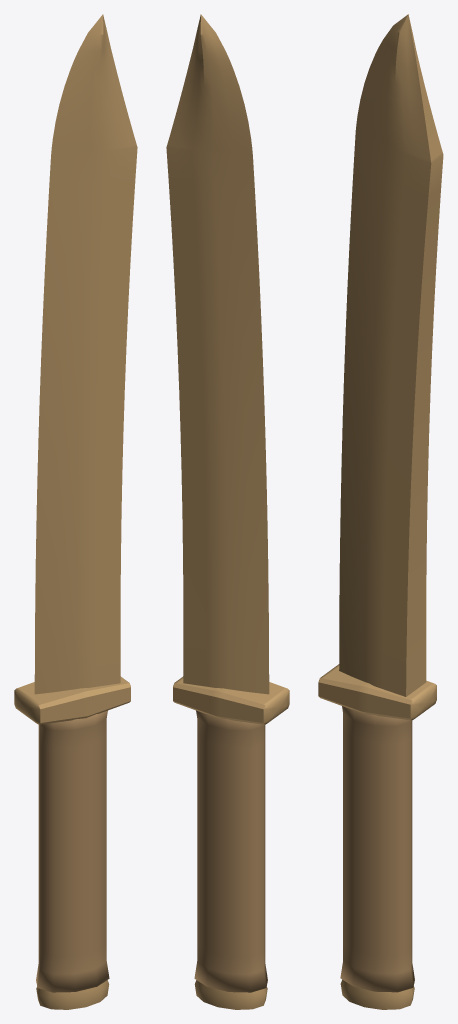
Rendered from brass-knife.glb.
3 views of the same model, side by side, from view 1: azimuth 30°, elevation 25°; view 2: azimuth 150°, elevation 25°; view 3: azimuth 330°, elevation 25° (orthographic).
Visible parts, largest first — view 1: brass-knife; view 2: brass-knife; view 3: brass-knife.
Boxes of the visible parts, x1,y1,x2,y2 form: brass-knife: (14, 14, 137, 1009); brass-knife: (166, 14, 289, 1009); brass-knife: (318, 14, 443, 1009).
Bounding box in the file's own units: 0.0992 × 0.8678 × 0.048.
